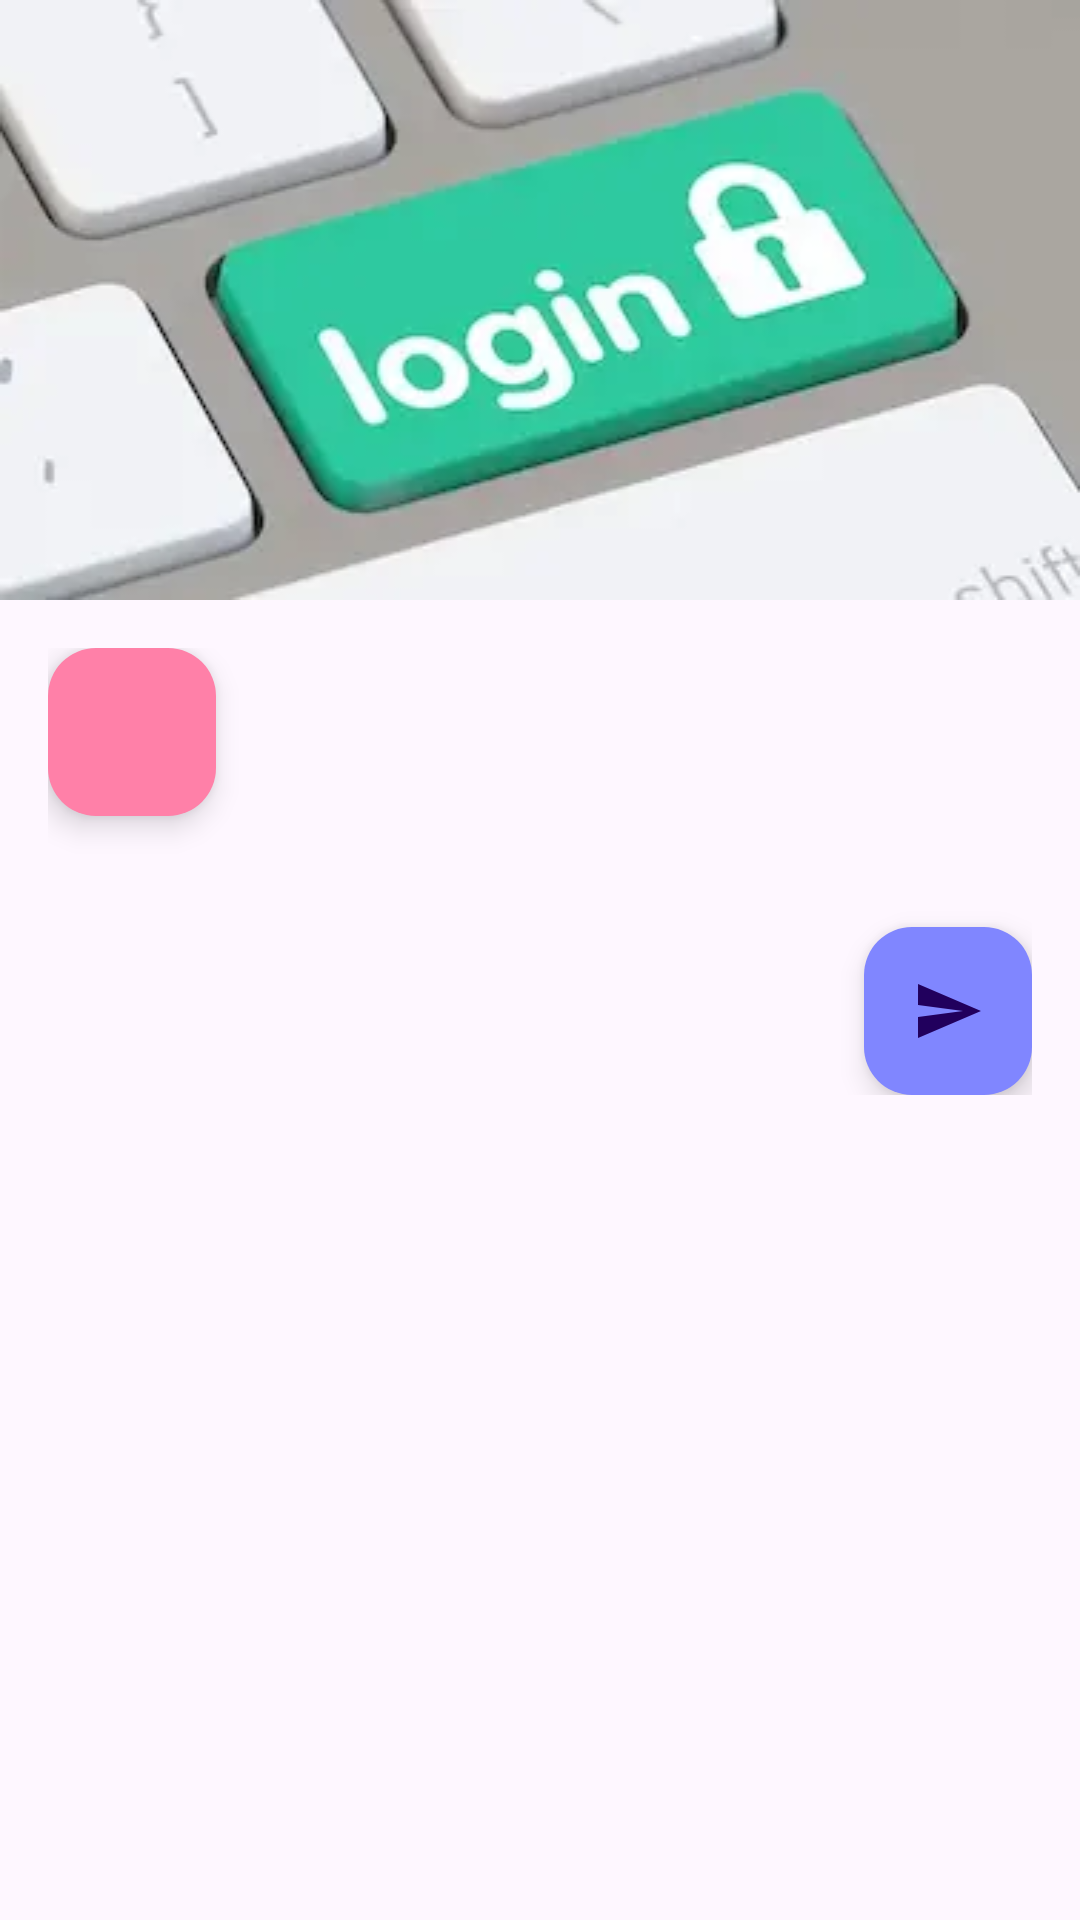

Screen size 1080px×1920px. Icon name, then its box in pixels as (x1, y1, x2, y2):
Submit login form button: (864, 927, 1032, 1095)
